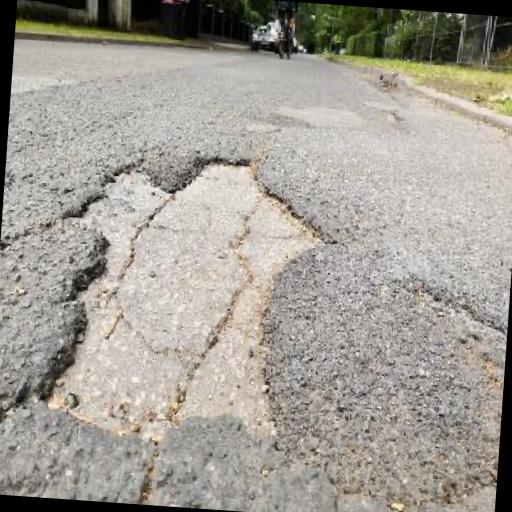pothole: (27, 137, 337, 450)
